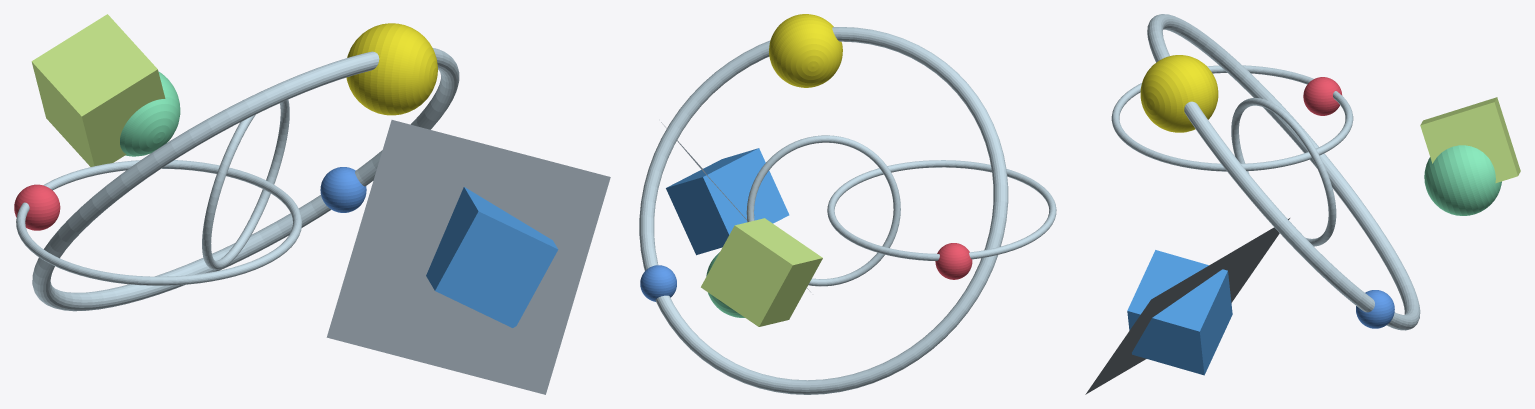
The model's file is sketch.glb.
3 renders of one model, left to right at view 1: azimuth 30°, elevation 25°; view 2: azimuth 150°, elevation 25°; view 3: azimuth 270°, elevation 25°, orthographic. The views are drawn at different scales.
Parts seen in each view (by area): view 1: Plane, Torus, Cube, Cube.001, Sphere, Torus.002, Torus.001, Sphere.001, Sphere.002, Sphere.003; view 2: Torus, Cube, Cube.001, Sphere, Torus.002, Torus.001, Sphere.003, Sphere.002; view 3: Torus, Cube.001, Sphere, Cube, Plane, Sphere.001, Torus.002, Torus.001, Sphere.003, Sphere.002.
Boxes of the visible parts, bbox=[...] form: Plane: bbox=[326, 120, 610, 394]; Torus: bbox=[32, 47, 459, 311]; Cube: bbox=[31, 14, 165, 166]; Cube.001: bbox=[426, 187, 558, 327]; Sphere: bbox=[346, 23, 437, 115]; Torus.002: bbox=[16, 160, 302, 285]; Torus.001: bbox=[202, 99, 289, 269]; Sphere.001: bbox=[120, 71, 180, 156]; Sphere.002: bbox=[320, 167, 366, 212]; Sphere.003: bbox=[14, 184, 60, 230]; Torus: bbox=[639, 27, 1008, 394]; Cube: bbox=[701, 218, 822, 326]; Cube.001: bbox=[666, 148, 789, 255]; Sphere: bbox=[769, 14, 842, 87]; Torus.002: bbox=[827, 160, 1056, 260]; Torus.001: bbox=[746, 135, 900, 286]; Sphere.003: bbox=[935, 243, 972, 279]; Sphere.002: bbox=[640, 265, 676, 301]; Torus: bbox=[1147, 14, 1420, 330]; Cube.001: bbox=[1127, 250, 1232, 375]; Sphere: bbox=[1140, 55, 1218, 132]; Cube: bbox=[1420, 97, 1520, 183]; Plane: bbox=[1085, 218, 1289, 394]; Sphere.001: bbox=[1424, 145, 1501, 215]; Torus.002: bbox=[1111, 65, 1353, 171]; Torus.001: bbox=[1231, 98, 1336, 246]; Sphere.003: bbox=[1303, 77, 1342, 115]; Sphere.002: bbox=[1356, 290, 1394, 328].
Size of the model in its own units: 13.19 by 8.38 by 11.18.
